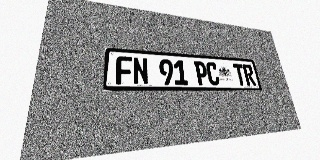1: (173, 60, 188, 85)
9: (159, 59, 175, 85)
C: (205, 62, 220, 85)
F: (116, 56, 133, 85)
N: (133, 57, 149, 85)
P: (194, 61, 209, 85)
R: (242, 64, 256, 86)
T: (233, 63, 247, 85)
